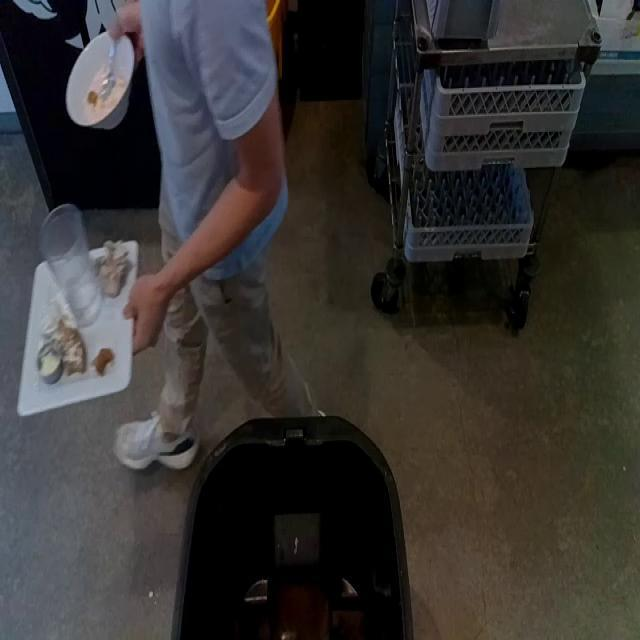Anorganik: (27, 243, 134, 405), (67, 34, 137, 119), (99, 34, 119, 108)
Organik: (40, 310, 110, 390), (79, 65, 129, 109)
